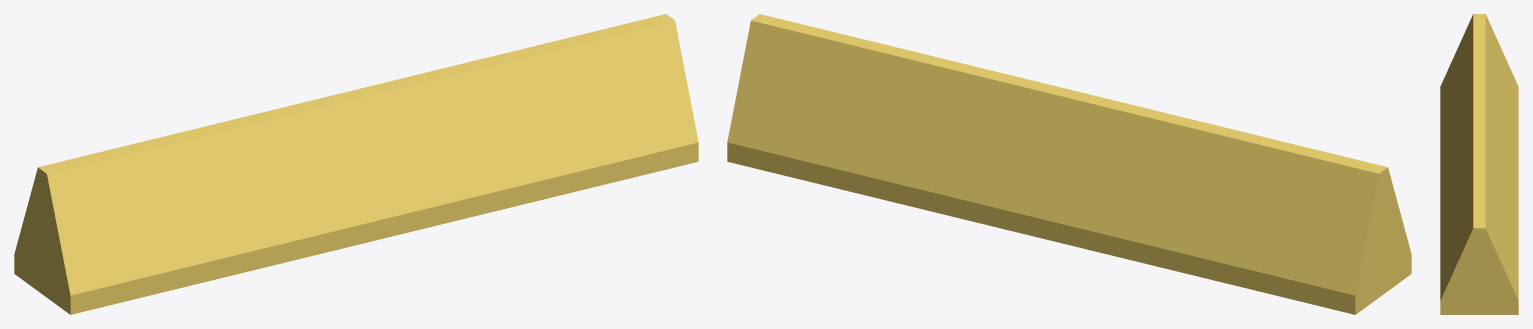
Rendered from Roadblock.fbx.
3 views of the same model, side by side, from view 1: azimuth 30°, elevation 25°; view 2: azimuth 150°, elevation 25°; view 3: azimuth 270°, elevation 25° (orthographic). The views are drawn at different scales.
Parts seen in each view (by area): view 1: Roadblock; view 2: Roadblock; view 3: Roadblock.
Boxes of the visible parts, bbox=[...] form: Roadblock: bbox=[14, 14, 698, 314]; Roadblock: bbox=[727, 14, 1411, 314]; Roadblock: bbox=[1440, 14, 1518, 314].
Bounding box in the file's own units: 970 × 183 × 150.
